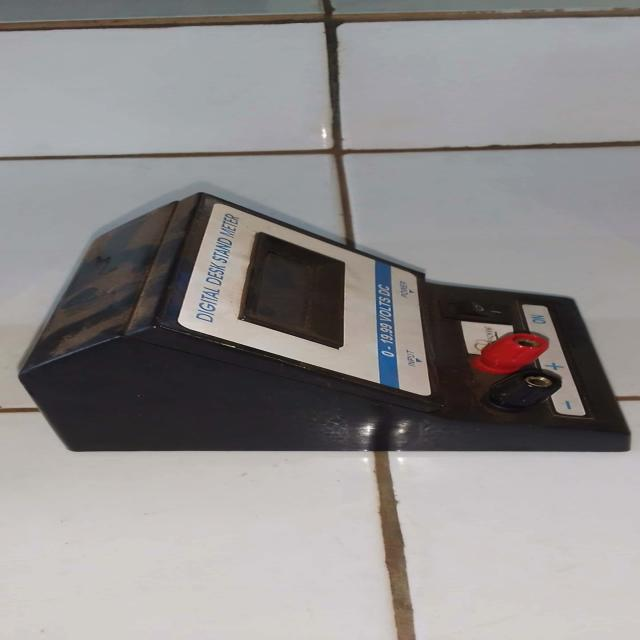Digital Voltmeter 0-20V: (29, 177, 630, 487)
